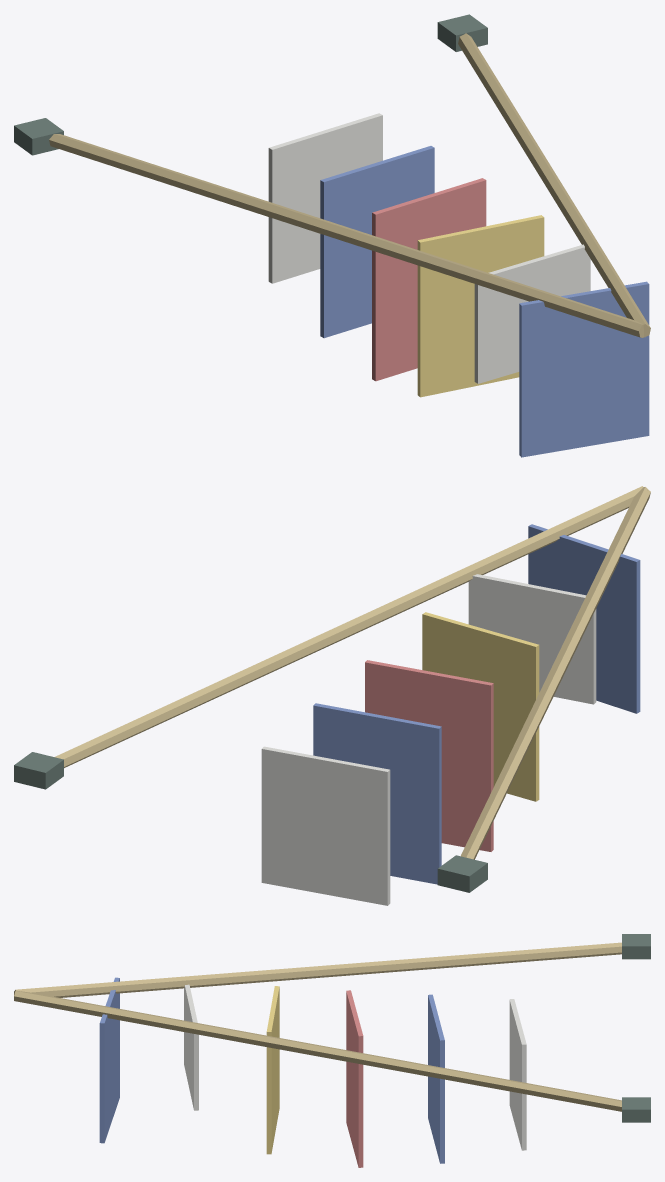
Rendered from laundry_pole.glb.
3 renders of one model, top to bottom at view 1: azimuth 30°, elevation 25°; view 2: azimuth 150°, elevation 25°; view 3: azimuth 270°, elevation 25°, orthographic. The views are drawn at different scales.
Parts seen in each view (by area): view 1: laundry_pole; view 2: laundry_pole; view 3: laundry_pole.
Part boxes in pixels (bbox=[...]): laundry_pole: bbox=[14, 14, 650, 457]; laundry_pole: bbox=[14, 486, 650, 905]; laundry_pole: bbox=[14, 934, 650, 1167].
Bounding box in the file's own units: 1.72 × 0.7067 × 2.64.
